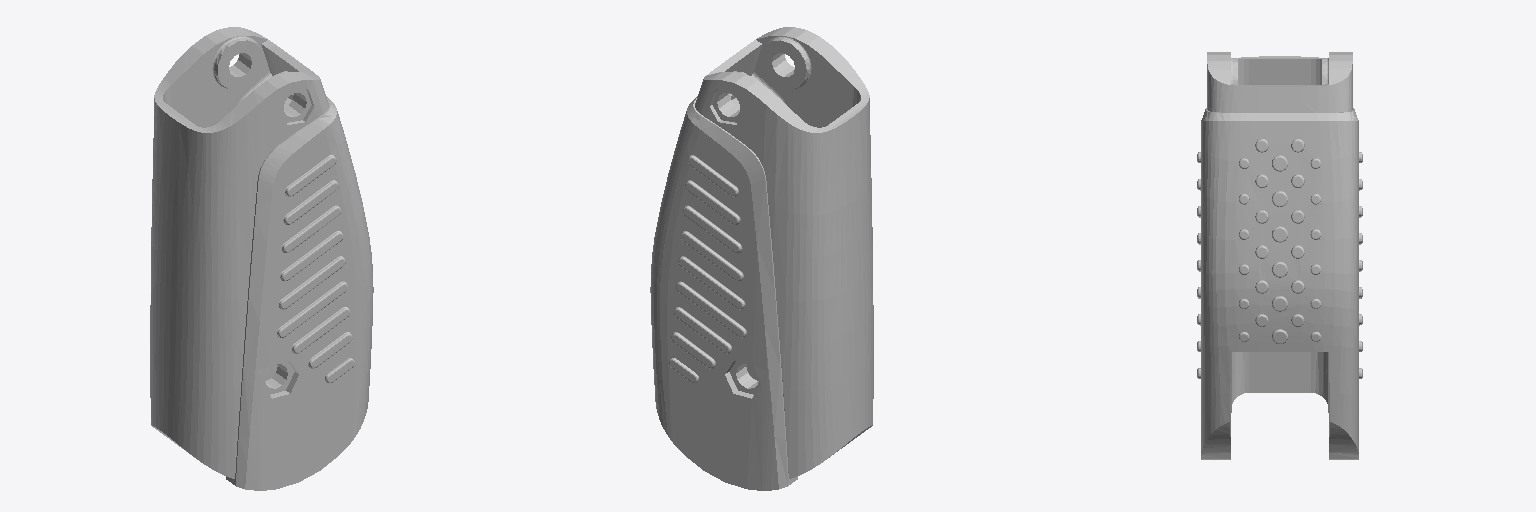
The model's file is left_index_1_visuals.obj.
3 renders of one model, left to right at view 1: azimuth 30°, elevation 25°; view 2: azimuth 150°, elevation 25°; view 3: azimuth 270°, elevation 25°, orthographic.
Bounding box in the file's own units: 0.0239 × 0.0493 × 0.0184.